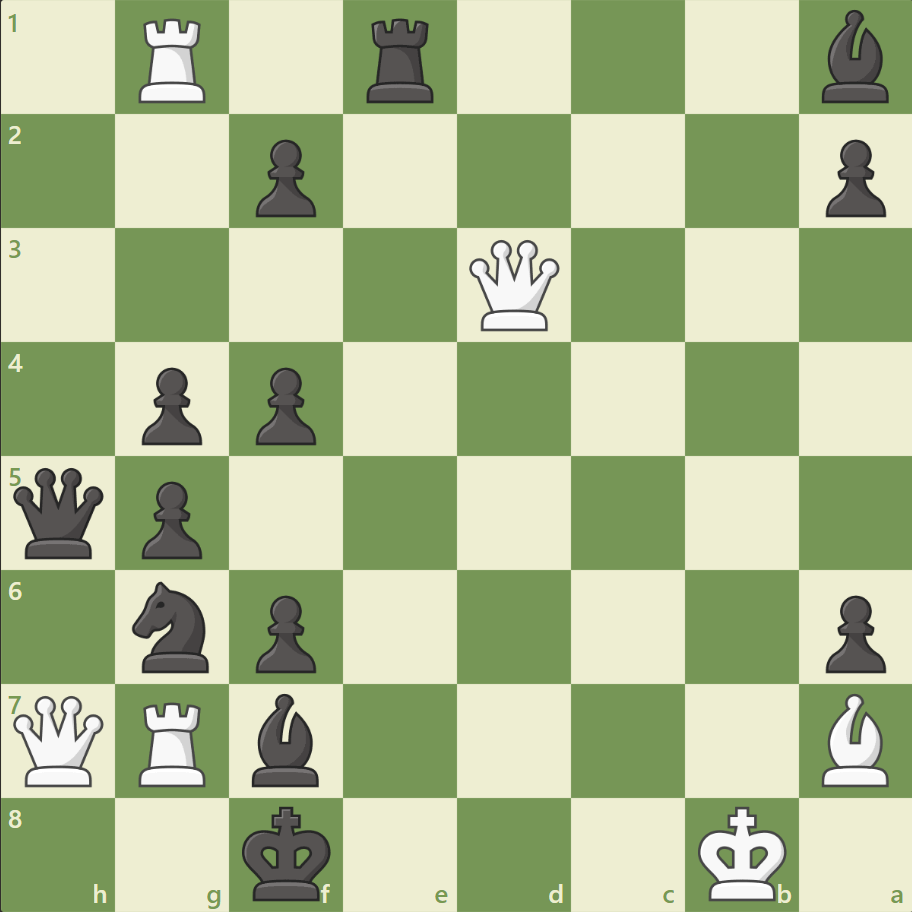B: (812, 687, 896, 790)
K: (692, 798, 792, 906)
Q: (10, 690, 109, 789), (464, 236, 563, 335)
R: (133, 693, 215, 790), (133, 12, 215, 109)
b: (244, 687, 328, 790), (812, 6, 896, 109)
k: (238, 798, 338, 906)
n: (124, 575, 222, 677)
p: (247, 586, 322, 677), (133, 473, 208, 564), (247, 359, 322, 450), (133, 359, 208, 450), (247, 132, 322, 223), (815, 586, 889, 677), (815, 132, 889, 223)
q: (10, 463, 109, 562)
r: (360, 12, 442, 109)
